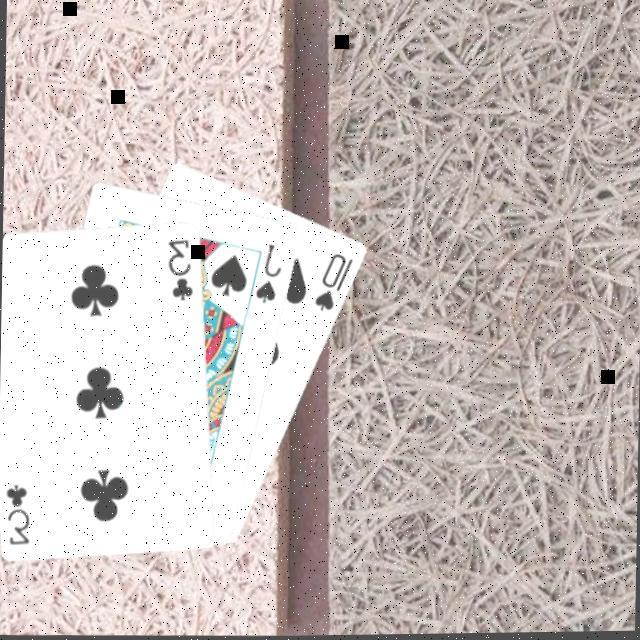10S: (309, 247, 354, 314)
3C: (162, 234, 196, 303), (0, 478, 32, 546)
JS: (250, 239, 284, 306)
